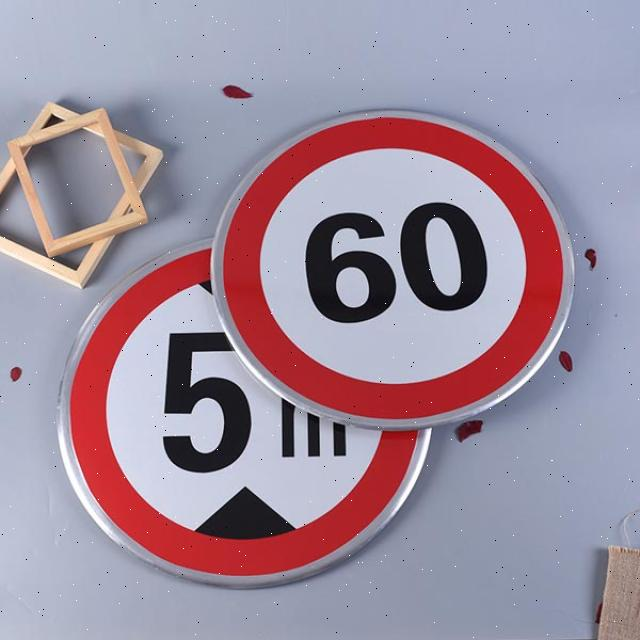speed limit 60: (210, 109, 576, 433)
